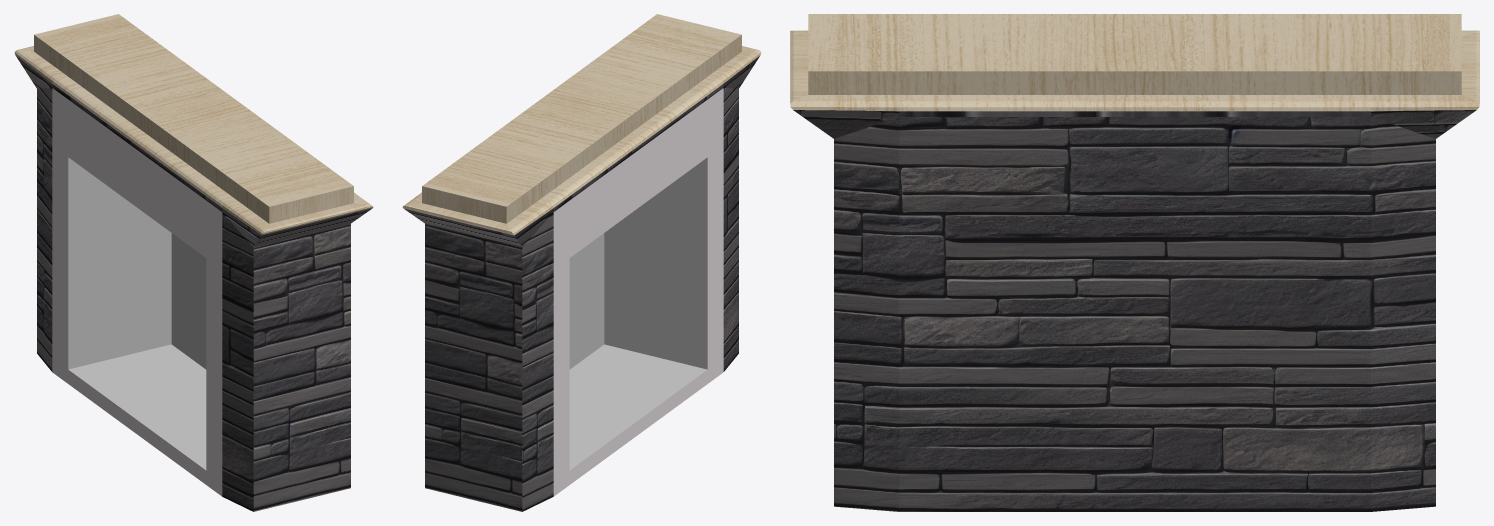
The model's file is Fireplace.fbx.
3 renders of one model, left to right at view 1: azimuth 30°, elevation 25°; view 2: azimuth 150°, elevation 25°; view 3: azimuth 270°, elevation 25°, orthographic. The views are drawn at different scales.
Parts seen in each view (by area): view 1: Cube; view 2: Cube; view 3: Cube.
Part boxes in pixels (x1,y1,x2,y2): Cube: (14, 14, 373, 511); Cube: (402, 14, 761, 511); Cube: (790, 14, 1479, 511).
Size of the model in its own units: 61.76 by 162 by 234.
